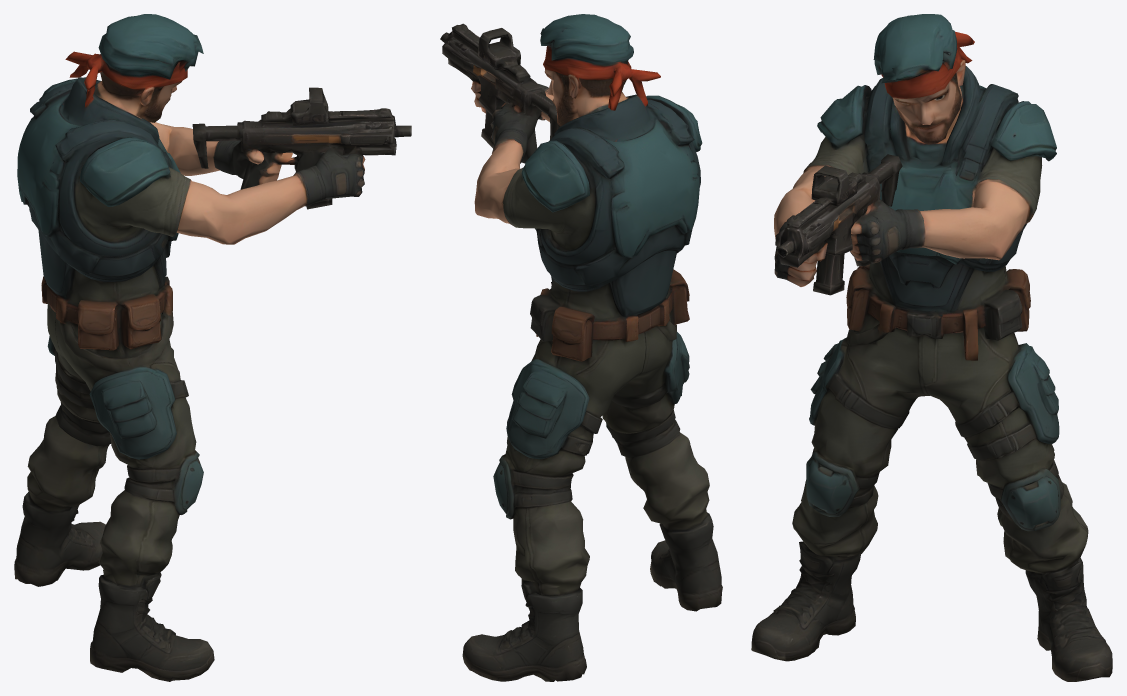
The model's file is commando.glb.
3 views of the same model, side by side, from view 1: azimuth 30°, elevation 25°; view 2: azimuth 150°, elevation 25°; view 3: azimuth 270°, elevation 25° (orthographic). The views are drawn at different scales.
Visible parts, largest first — view 1: tripo_node_86534ff2-d1c4-43ec-84cd-6784df6087b3; view 2: tripo_node_86534ff2-d1c4-43ec-84cd-6784df6087b3; view 3: tripo_node_86534ff2-d1c4-43ec-84cd-6784df6087b3.
Part boxes in pixels (box(x1,y1,x2,y2)): tripo_node_86534ff2-d1c4-43ec-84cd-6784df6087b3: box(14, 14, 411, 681); tripo_node_86534ff2-d1c4-43ec-84cd-6784df6087b3: box(440, 14, 722, 681); tripo_node_86534ff2-d1c4-43ec-84cd-6784df6087b3: box(751, 14, 1112, 681).
Size of the model in its own units: 0.5456 by 1 by 0.5055.
1 material, 1 textured.
